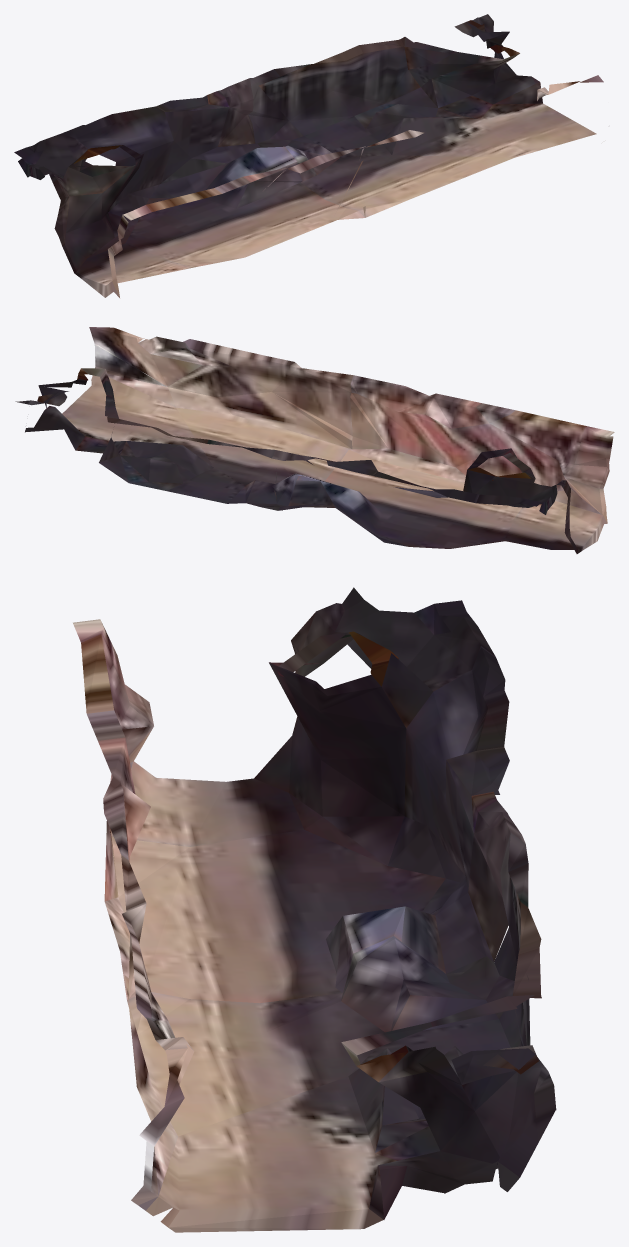
3 views of the same model, one above another, from view 1: azimuth 30°, elevation 25°; view 2: azimuth 150°, elevation 25°; view 3: azimuth 270°, elevation 25° (orthographic). The views are drawn at different scales.
Parts seen in each view (by area): view 1: Mesh_0; view 2: Mesh_0; view 3: Mesh_0.
Boxes of the visible parts, x1,y1,x2,y2 form: Mesh_0: (14, 14, 603, 297); Mesh_0: (15, 327, 614, 553); Mesh_0: (73, 587, 556, 1232).
Size of the model in its own units: 30.47 by 5.53 by 12.25.
Materials: 1 (1 with a texture image).
